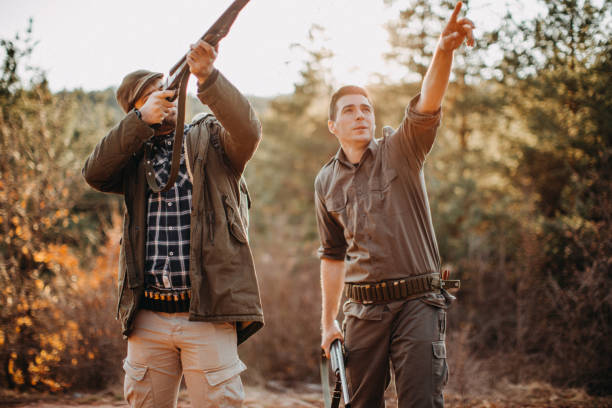gun: (156, 0, 250, 103), (329, 338, 353, 406)
